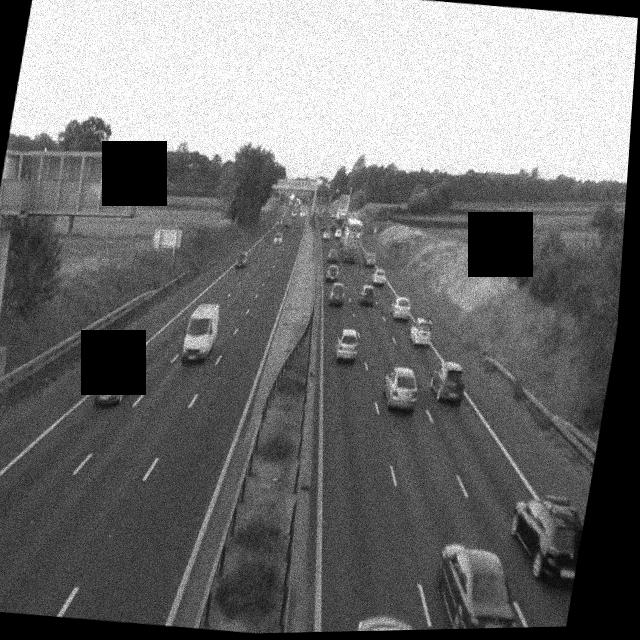bus: (337, 214, 365, 263)
car: (425, 540, 532, 630), (502, 492, 587, 587), (180, 299, 223, 363), (92, 351, 139, 408), (378, 364, 423, 413), (425, 358, 469, 404), (355, 612, 431, 631), (332, 328, 362, 364), (407, 316, 435, 346), (389, 295, 414, 323), (327, 280, 346, 307), (358, 282, 379, 305), (324, 262, 341, 283), (371, 268, 389, 287), (362, 252, 378, 269), (234, 252, 249, 269), (273, 232, 283, 246), (322, 228, 331, 240)
